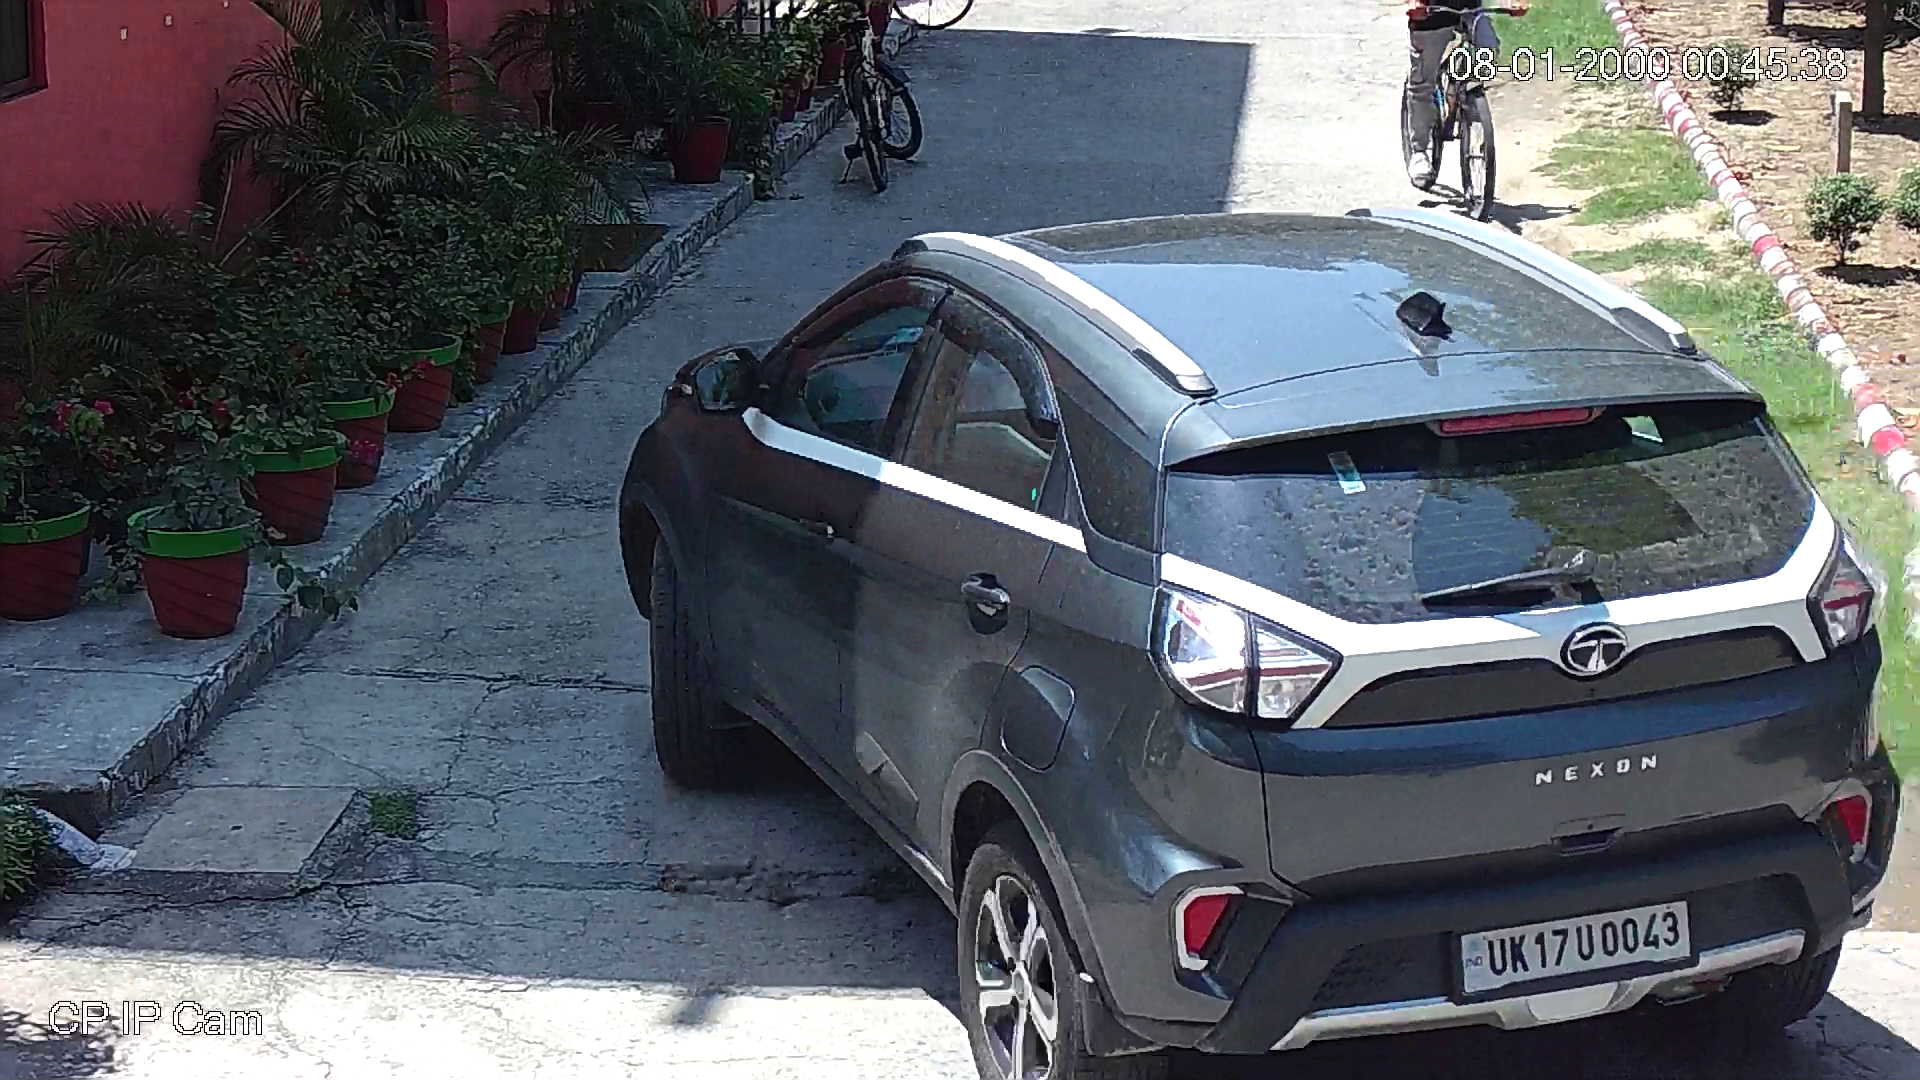plate: (1451, 890, 1697, 1008)
